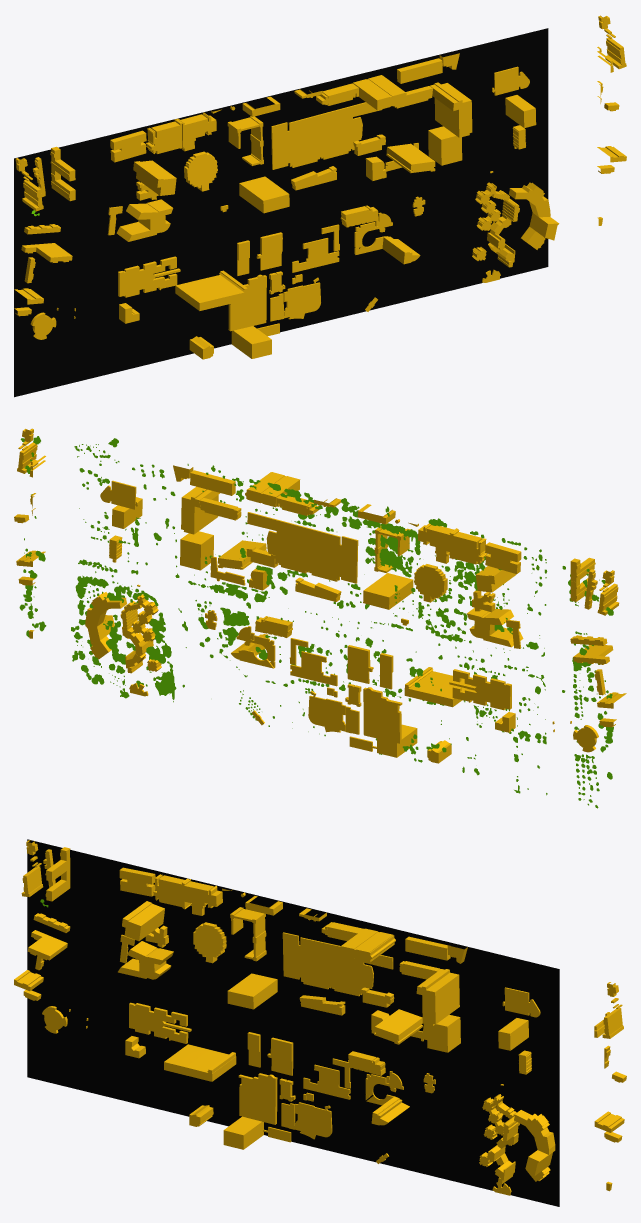
Rendered from existing_buildings_03.glb.
3 views of the same model, one above another, from view 1: azimuth 30°, elevation 25°; view 2: azimuth 150°, elevation 25°; view 3: azimuth 330°, elevation 25° (orthographic).
Parts seen in each view (by area): view 1: Layer 04, existing_building - Copy, existing_building; view 2: existing_building - Copy, existing_building, treesurface; view 3: Layer 04, existing_building - Copy, existing_building.
Boxes of the visible parts, <box> form: Layer 04: <box>14,28,548,397</box>; existing_building - Copy: <box>14,15,619,339</box>; existing_building: <box>14,28,626,359</box>; existing_building - Copy: <box>14,428,616,752</box>; existing_building: <box>16,441,626,763</box>; treesurface: <box>19,436,613,808</box>; Layer 04: <box>27,839,559,1206</box>; existing_building - Copy: <box>23,840,626,1195</box>; existing_building: <box>14,856,624,1191</box>.
Size of the model in its own units: 1116 by 458 by 78.19.
